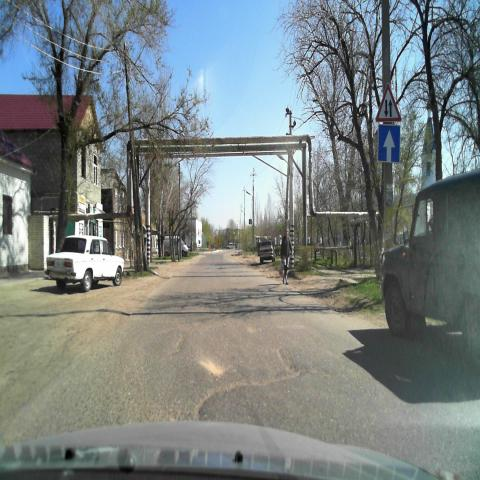1_21: (376, 84, 401, 121)
